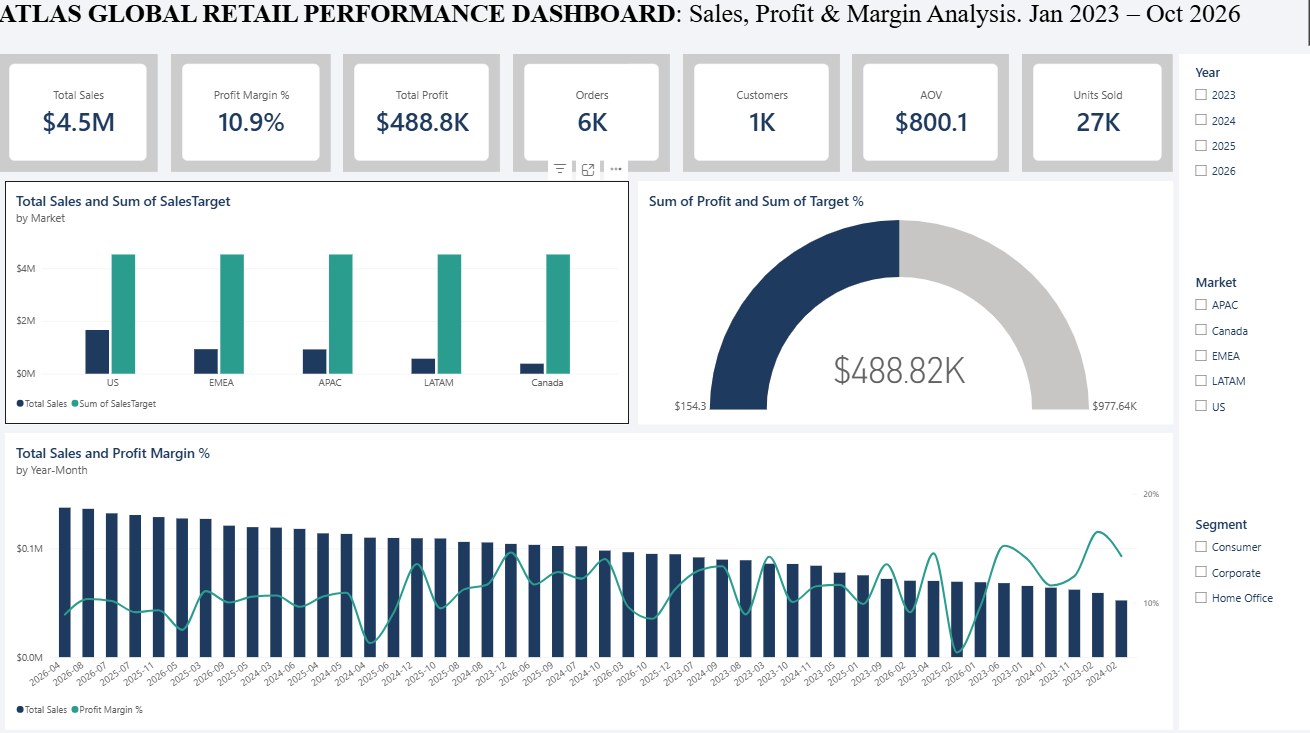

What the dashboard file says about the page in this screenshot:
{"tool":"powerbi","page":{"name":"Executive Overview","canvas":[1920,1080],"ordinal":0},"visuals":[{"type":"cardVisual","fields":{"Data":["customers.Total Profit"]},"box":[503.9,80.2,229.1,172.2],"z":0},{"type":"cardVisual","fields":{"Data":["customers.Total Sales"]},"box":[0,80.2,233.4,172.2],"z":1000},{"type":"cardVisual","fields":{"Data":["customers.Profit Margin %"]},"box":[251.9,80.2,233.4,172.2],"z":2000},{"type":"cardVisual","fields":{"Data":["customers.Orders"]},"box":[751.5,80.2,229,172],"z":3000},{"type":"cardVisual","fields":{"Data":["customers.AOV"]},"box":[1246.5,80.2,229,172],"z":4000},{"type":"cardVisual","fields":{"Data":["customers.Customers"]},"box":[999,80.2,229,172],"z":5000},{"type":"cardVisual","fields":{"Data":["customers.Units Sold"]},"box":[1494,80.2,220.3,172.2],"z":6000},{"type":"lineClusteredColumnComboChart","fields":{"Category":["DateTable.Year-Month"],"Y":["customers.Total Sales"],"Y2":["customers.Profit Margin %"]},"box":[10.2,633.2,1704.1,433.3],"z":7000},{"type":"clusteredColumnChart","fields":{"Category":["customers.Market"],"Y":["customers.Total Sales","Sum(targets.SalesTarget)"]},"box":[10.2,265.5,910.4,354.5],"z":8000},{"type":"gauge","fields":{"MinValue":["Sum(targets.Target %)"],"Y":["Sum(orders.Profit)"]},"box":[933.7,265.5,780.5,354.5],"z":9000},{"type":"slicer","fields":{"Values":["customers.Segment"]},"box":[1723,739.7,197,326.8],"z":10000},{"type":"slicer","fields":{"Values":["customers.Market"]},"box":[1723,386.6,197,367.7],"z":11000},{"type":"textbox","box":[0,0,1920,80.2],"z":12000},{"type":"slicer","fields":{"Values":["DateTable.Year"]},"box":[1723,80.2,197,312.2],"z":13000}]}

Visuals, with their boxes in screenshot pixels (x1, y1, x2, y2), scaled from the page's 1920x1080 canvas onto the 1310x733 screenshot:
cardVisual - customers.Total Profit: <box>344,54,500,171</box>
cardVisual - customers.Total Sales: <box>0,54,159,171</box>
cardVisual - customers.Profit Margin %: <box>172,54,331,171</box>
cardVisual - customers.Orders: <box>513,54,669,171</box>
cardVisual - customers.AOV: <box>850,54,1007,171</box>
cardVisual - customers.Customers: <box>682,54,838,171</box>
cardVisual - customers.Units Sold: <box>1019,54,1170,171</box>
lineClusteredColumnComboChart - DateTable.Year-Month x customers.Total Sales: <box>7,430,1170,724</box>
clusteredColumnChart - customers.Market x customers.Total Sales: <box>7,180,628,421</box>
gauge - Sum(targets.Target %) x Sum(orders.Profit): <box>637,180,1170,421</box>
slicer - customers.Segment: <box>1176,502,1309,724</box>
slicer - customers.Market: <box>1176,262,1309,512</box>
textbox: <box>0,0,1309,54</box>
slicer - DateTable.Year: <box>1176,54,1309,266</box>
